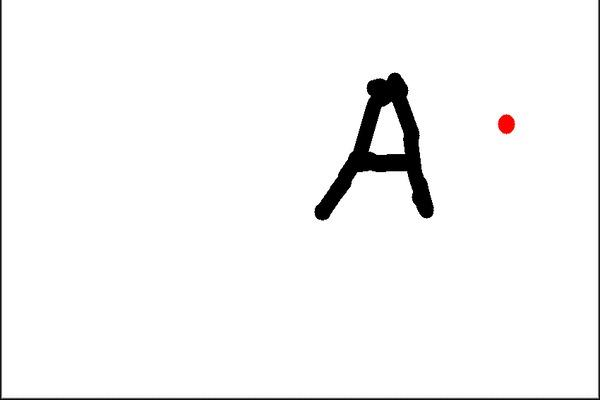A: (301, 61, 445, 229)
